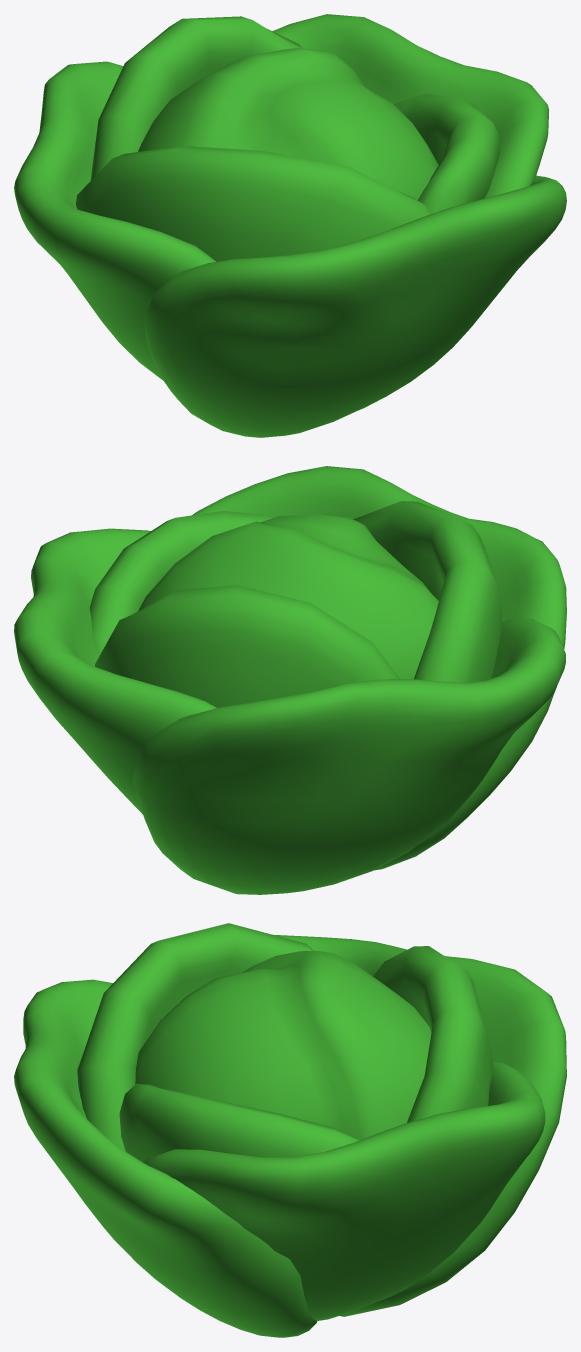
Rendered from SM_Ponpon_Salad_002_NoMatId.fbx.
3 views of the same model, one above another, from view 1: azimuth 30°, elevation 25°; view 2: azimuth 150°, elevation 25°; view 3: azimuth 270°, elevation 25° (orthographic).
Visible parts, largest first — view 1: SM_Ponpon_Salad_002_NoMatId; view 2: SM_Ponpon_Salad_002_NoMatId; view 3: SM_Ponpon_Salad_002_NoMatId.
Part boxes in pixels (bbox=[...]): SM_Ponpon_Salad_002_NoMatId: bbox=[14, 14, 566, 437]; SM_Ponpon_Salad_002_NoMatId: bbox=[14, 466, 566, 894]; SM_Ponpon_Salad_002_NoMatId: bbox=[14, 923, 566, 1337].
Bounding box in the file's own units: 1.38 × 0.9301 × 1.32.
